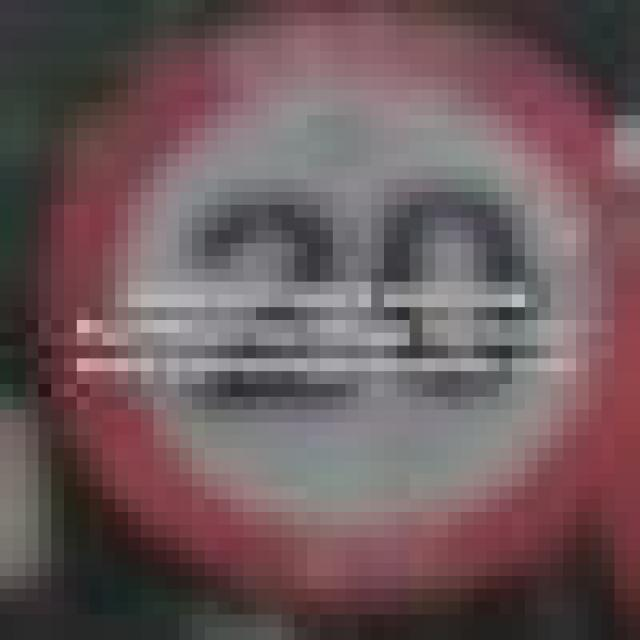SPEED_LIMIT_20: (26, 0, 627, 589)
